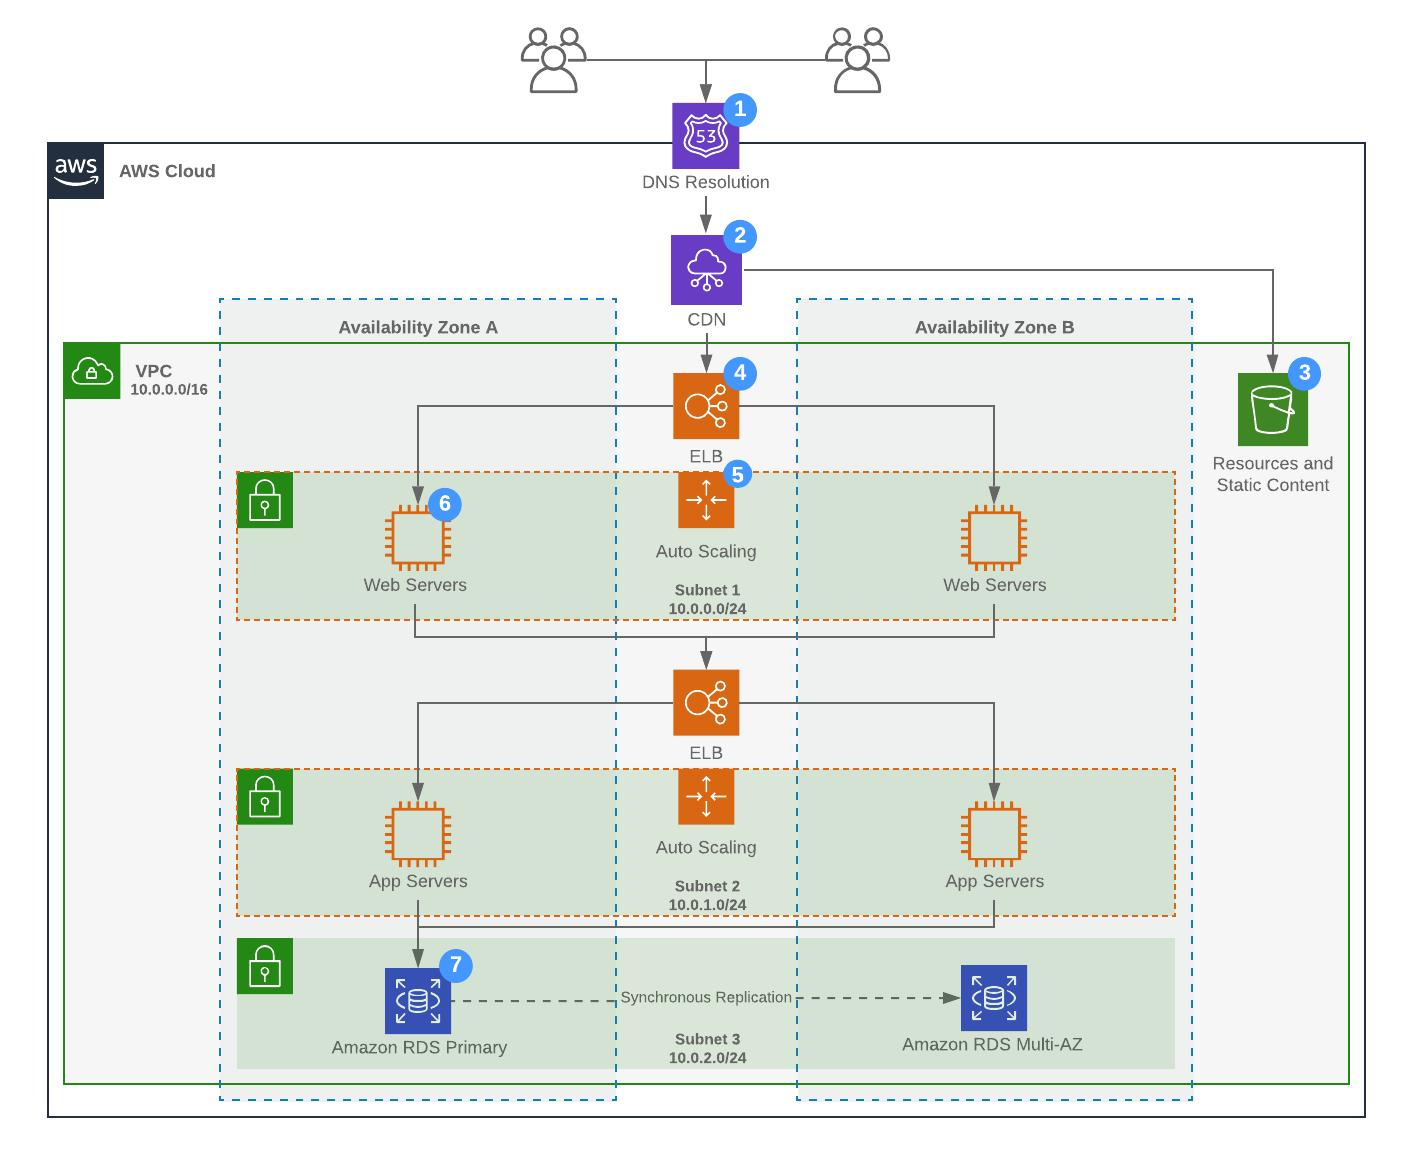Auto Scaling: (677, 469, 739, 532), (675, 763, 734, 825)
CDN: (669, 231, 743, 305)
EC2: (952, 784, 1037, 874), (381, 501, 463, 576), (379, 798, 459, 872), (961, 498, 1035, 576)
ELB: (669, 369, 742, 441), (671, 669, 743, 738)
Public Subnet: (233, 767, 299, 827), (231, 471, 293, 531), (239, 937, 296, 993)
RDS: (961, 959, 1032, 1034), (381, 967, 456, 1037)
Route53: (667, 94, 748, 172)
S3: (1237, 371, 1308, 446)
Users: (514, 16, 588, 102), (819, 19, 894, 99)
aws: (41, 134, 109, 206)
